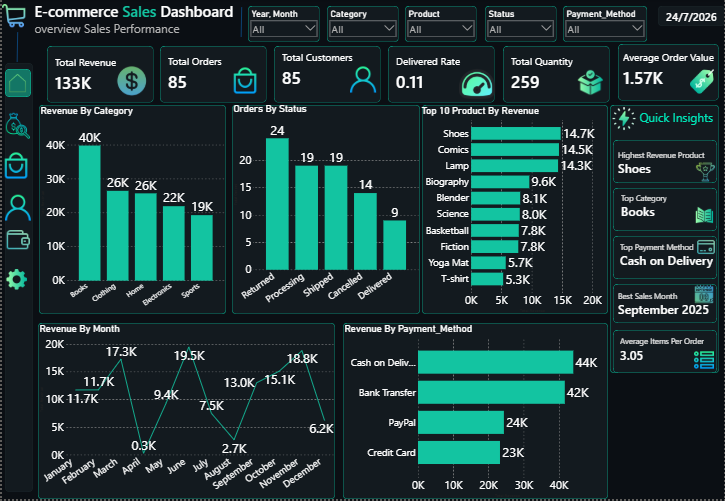

What the dashboard file says about the page in this screenshot:
{"tool":"powerbi","page":{"name":"Page 1","canvas":[2600,1800],"ordinal":0},"visuals":[{"type":"shape","box":[2188.8,381.6,392.4,964.8],"z":0},{"type":"shape","box":[2199.6,680.4,374.4,154.8],"z":1000},{"type":"shape","box":[10.8,230.4,100.8,1544.4],"z":2000},{"type":"shape","box":[10.8,252,93.6,100.8],"z":3000},{"type":"shape","box":[2361,24,240,72],"z":4000},{"type":"shape","box":[885,24,258,129],"z":5000},{"type":"image","box":[18,252,75.6,100.8],"z":6000},{"type":"image","box":[3.6,536.4,93.6,126],"z":7000},{"type":"image","box":[9,405,93,99],"z":8000},{"type":"image","box":[12,687,93,126],"z":9000},{"type":"image","box":[9,804,93,126],"z":10000},{"type":"image","box":[9,960,84,96],"z":11000},{"type":"image","box":[0,0,84,120],"z":12000},{"type":"shape","box":[0,120,111,108],"z":13000},{"type":"textbox","box":[111,0,753,138],"z":14000},{"type":"slicer","fields":{"Values":["Sheet1.Order_Date.Variation.Date Hierarchy.Year","Sheet1.Order_Date.Variation.Date Hierarchy.Month"]},"box":[885.6,28.8,259.2,126],"z":15000},{"type":"shape","box":[2019,24,303,129],"z":16000},{"type":"shape","box":[1737,24,258,129],"z":17000},{"type":"shape","box":[1452,24,258,129],"z":18000},{"type":"shape","box":[1170,24,258,129],"z":19000},{"type":"cardVisual","fields":{"Data":["Sheet1.Last refresh"]},"box":[2361.6,25.2,241.2,75.6],"z":20000},{"type":"slicer","fields":{"Values":["Sheet1. Category"]},"box":[1170,28.8,259.2,108],"z":21000},{"type":"slicer","fields":{"Values":["Sheet1.Product"]},"box":[1450.8,28.8,259.2,108],"z":22000},{"type":"slicer","fields":{"Values":["Sheet1.Status"]},"box":[1738.8,28.8,255.6,108],"z":23000},{"type":"slicer","fields":{"Values":["Sheet1.Payment_Method"]},"box":[2019.6,28.8,302.4,108],"z":24000},{"type":"shape","box":[807,30,111,108],"z":25000},{"type":"shape","box":[162,168,384,204],"z":26000},{"type":"shape","box":[570,168,384,204],"z":27000},{"type":"shape","box":[978,168,384,204],"z":28000},{"type":"shape","box":[1389,168,384,204],"z":29000},{"type":"shape","box":[1803,168,384,204],"z":30000},{"type":"shape","box":[2217,162,363,204],"z":31000},{"type":"cardVisual","fields":{"Data":["Sheet1.Total Revenue"]},"box":[162,174,384,198],"z":32000},{"type":"cardVisual","fields":{"Data":["Sheet1.Total Orders"]},"box":[570,168,384,198],"z":33000},{"type":"cardVisual","fields":{"Data":["Sheet1.Total Customers"]},"box":[978,153,384,198],"z":34000},{"type":"cardVisual","fields":{"Data":["Sheet1.Delivered Rate"]},"box":[1389,168,384,198],"z":35000},{"type":"cardVisual","fields":{"Data":["Sheet1.Total Quantity"]},"box":[1803,168,384,198],"z":36000},{"type":"cardVisual","fields":{"Data":["Sheet1.Average Order Value"]},"box":[2208,153,393,198],"z":37000},{"type":"shape","box":[133.2,381.6,673.2,752.4],"z":38000},{"type":"shape","box":[828,381.6,676.8,752.4],"z":39000},{"type":"shape","box":[1512,381.6,669.6,752.4],"z":40000},{"type":"shape","box":[129.6,1166.4,1069.2,633.6],"z":41000},{"type":"shape","box":[1227.6,1166.4,954,633.6],"z":42000},{"type":"columnChart","title":"Revenue By  Category","fields":{"Category":["Sheet1. Category"],"Y":["Sheet1.Total Revenue"]},"box":[133.2,381.6,673.2,752.4],"z":43000},{"type":"barChart","title":" Revenue By Payment_Method","fields":{"Category":["Sheet1.Payment_Method"],"Y":["Sheet1.Total Revenue"]},"box":[1227.6,1166.4,954,633.6],"z":44000},{"type":"columnChart","title":"Orders By Status","fields":{"Category":["Sheet1.Status"],"Y":["Sheet1.Total Orders"]},"box":[828,374.4,676.8,752.4],"z":45000},{"type":"lineChart","title":"Revenue By Month","fields":{"Category":["Sheet1.Order_Date.Variation.Date Hierarchy.Month"],"Y":["Sheet1.Total Revenue"]},"box":[129.6,1166.4,1069.2,633.6],"z":46000},{"type":"barChart","title":"Top 10 Product By Revenue ","fields":{"Category":["Sheet1.Product"],"Y":["Sheet1.Total Revenue"]},"box":[1504.8,381.6,666,752.4],"z":47000},{"type":"textbox","box":[2289.6,381.6,309.6,100.8],"z":48000},{"type":"image","box":[349.2,230.4,241.2,129.6],"z":49000},{"type":"image","box":[828,230.4,93.6,126],"z":50000},{"type":"image","box":[1252.8,226.8,93.6,126],"z":51000},{"type":"image","box":[1645.2,237.6,129.6,136.8],"z":52000},{"type":"image","box":[2066.4,237.6,104.4,126],"z":53000},{"type":"image","box":[2476.8,237.6,86.4,118.8],"z":54000},{"type":"image","box":[2188.8,388.8,100.8,82.8],"z":55000},{"type":"shape","box":[2199.6,507.6,374.4,154.8],"z":56000},{"type":"cardVisual","fields":{"Data":["Sheet1.Highest Revenue Product"]},"box":[2188.8,507.6,374.4,165.6],"z":57000},{"type":"cardVisual","fields":{"Data":["Sheet1.Top Category"]},"box":[2199.6,662.4,374.4,165.6],"z":58000},{"type":"shape","box":[2199.6,853.2,374.4,154.8],"z":59000},{"type":"shape","box":[2199.6,1026,374.4,140.4],"z":60000},{"type":"cardVisual","fields":{"Data":["Sheet1.Top Payment Method"]},"box":[2196,838.8,399.6,165.6],"z":61000},{"type":"cardVisual","fields":{"Data":["Sheet1.Best Sales Month"]},"box":[2188.8,1029.6,392.4,136.8],"z":62000},{"type":"shape","box":[2199.6,1191.6,374.4,154.8],"z":63000},{"type":"cardVisual","fields":{"Data":["Sheet1.Average Items Per Order"]},"box":[2196,1177.2,392.4,169.2],"z":64000},{"type":"image","box":[2480.4,586.8,104.4,72],"z":65000},{"type":"image","box":[2476.8,741.6,104.4,72],"z":66000},{"type":"image","box":[2480.4,856.8,108,72],"z":67000},{"type":"image","box":[2473.2,1026,108,72],"z":68000},{"type":"image","box":[2473.2,1263.6,108,72],"z":69000}]}

Visuals, with their boxes in screenshot pixels (x1, y1, x2, y2), scaled from the page's 2600x1800 canvas onto the 725x501 screenshot:
shape: [left=610, top=106, right=720, bottom=375]
shape: [left=613, top=189, right=718, bottom=232]
shape: [left=3, top=64, right=31, bottom=494]
shape: [left=3, top=70, right=29, bottom=98]
shape: [left=658, top=7, right=724, bottom=27]
shape: [left=247, top=7, right=319, bottom=43]
image: [left=5, top=70, right=26, bottom=98]
image: [left=1, top=149, right=27, bottom=184]
image: [left=3, top=113, right=28, bottom=140]
image: [left=3, top=191, right=29, bottom=226]
image: [left=3, top=224, right=28, bottom=259]
image: [left=3, top=267, right=26, bottom=294]
image: [left=0, top=0, right=23, bottom=33]
shape: [left=0, top=33, right=31, bottom=63]
textbox: [left=31, top=0, right=241, bottom=38]
slicer - Sheet1.Order_Date.Variation.Date Hierarchy.Year x Sheet1.Order_Date.Variation.Date Hierarchy.Month: [left=247, top=8, right=319, bottom=43]
shape: [left=563, top=7, right=647, bottom=43]
shape: [left=484, top=7, right=556, bottom=43]
shape: [left=405, top=7, right=477, bottom=43]
shape: [left=326, top=7, right=398, bottom=43]
cardVisual - Sheet1.Last refresh: [left=659, top=7, right=724, bottom=28]
slicer - Sheet1. Category: [left=326, top=8, right=399, bottom=38]
slicer - Sheet1.Product: [left=405, top=8, right=477, bottom=38]
slicer - Sheet1.Status: [left=485, top=8, right=556, bottom=38]
slicer - Sheet1.Payment_Method: [left=563, top=8, right=647, bottom=38]
shape: [left=225, top=8, right=256, bottom=38]
shape: [left=45, top=47, right=152, bottom=104]
shape: [left=159, top=47, right=266, bottom=104]
shape: [left=273, top=47, right=380, bottom=104]
shape: [left=387, top=47, right=494, bottom=104]
shape: [left=503, top=47, right=610, bottom=104]
shape: [left=618, top=45, right=719, bottom=102]
cardVisual - Sheet1.Total Revenue: [left=45, top=48, right=152, bottom=104]
cardVisual - Sheet1.Total Orders: [left=159, top=47, right=266, bottom=102]
cardVisual - Sheet1.Total Customers: [left=273, top=43, right=380, bottom=98]
cardVisual - Sheet1.Delivered Rate: [left=387, top=47, right=494, bottom=102]
cardVisual - Sheet1.Total Quantity: [left=503, top=47, right=610, bottom=102]
cardVisual - Sheet1.Average Order Value: [left=616, top=43, right=724, bottom=98]
shape: [left=37, top=106, right=225, bottom=316]
shape: [left=231, top=106, right=420, bottom=316]
shape: [left=422, top=106, right=608, bottom=316]
shape: [left=36, top=325, right=334, bottom=500]
shape: [left=342, top=325, right=608, bottom=500]
"Revenue By  Category" columnChart: [left=37, top=106, right=225, bottom=316]
" Revenue By Payment_Method" barChart: [left=342, top=325, right=608, bottom=500]
"Orders By Status" columnChart: [left=231, top=104, right=420, bottom=314]
"Revenue By Month" lineChart: [left=36, top=325, right=334, bottom=500]
"Top 10 Product By Revenue " barChart: [left=420, top=106, right=605, bottom=316]
textbox: [left=638, top=106, right=724, bottom=134]
image: [left=97, top=64, right=165, bottom=100]
image: [left=231, top=64, right=257, bottom=99]
image: [left=349, top=63, right=375, bottom=98]
image: [left=459, top=66, right=495, bottom=104]
image: [left=576, top=66, right=605, bottom=101]
image: [left=691, top=66, right=715, bottom=99]
image: [left=610, top=108, right=638, bottom=131]
shape: [left=613, top=141, right=718, bottom=184]
cardVisual - Sheet1.Highest Revenue Product: [left=610, top=141, right=715, bottom=187]
cardVisual - Sheet1.Top Category: [left=613, top=184, right=718, bottom=230]
shape: [left=613, top=237, right=718, bottom=281]
shape: [left=613, top=286, right=718, bottom=325]
cardVisual - Sheet1.Top Payment Method: [left=612, top=233, right=724, bottom=280]
cardVisual - Sheet1.Best Sales Month: [left=610, top=287, right=720, bottom=325]
shape: [left=613, top=332, right=718, bottom=375]
cardVisual - Sheet1.Average Items Per Order: [left=612, top=328, right=722, bottom=375]
image: [left=692, top=163, right=721, bottom=183]
image: [left=691, top=206, right=720, bottom=226]
image: [left=692, top=238, right=722, bottom=259]
image: [left=690, top=286, right=720, bottom=306]
image: [left=690, top=352, right=720, bottom=372]
